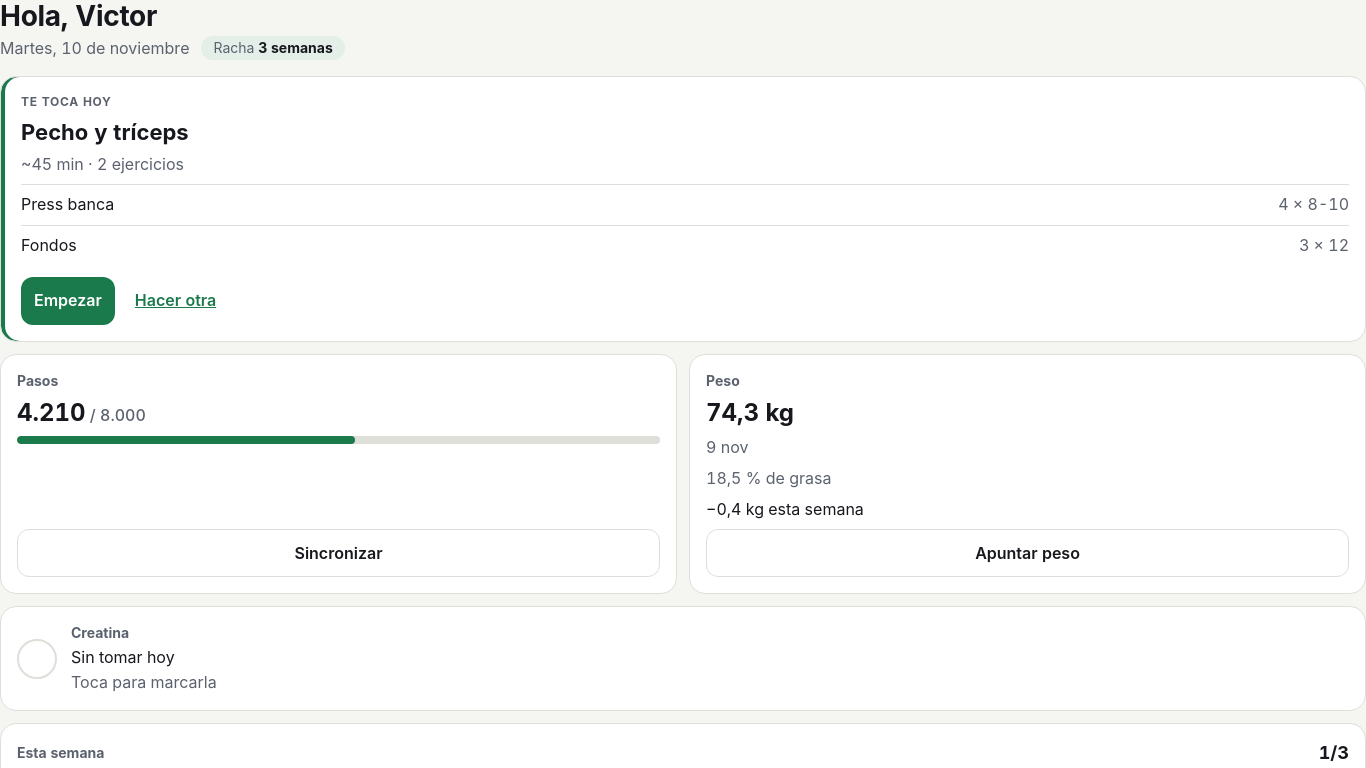
Test: Hoy: hoja Apuntar peso › guarda el peso con coma y la grasa, cierra la hoja y recarga Hoy
Expected: the heading "Hola, Victor" is shown, x1=0 y1=0 x2=157 y2=33
Click the button "Apuntar peso". click: (1028,554)
box: x1=706 y1=530 x2=1349 y2=578
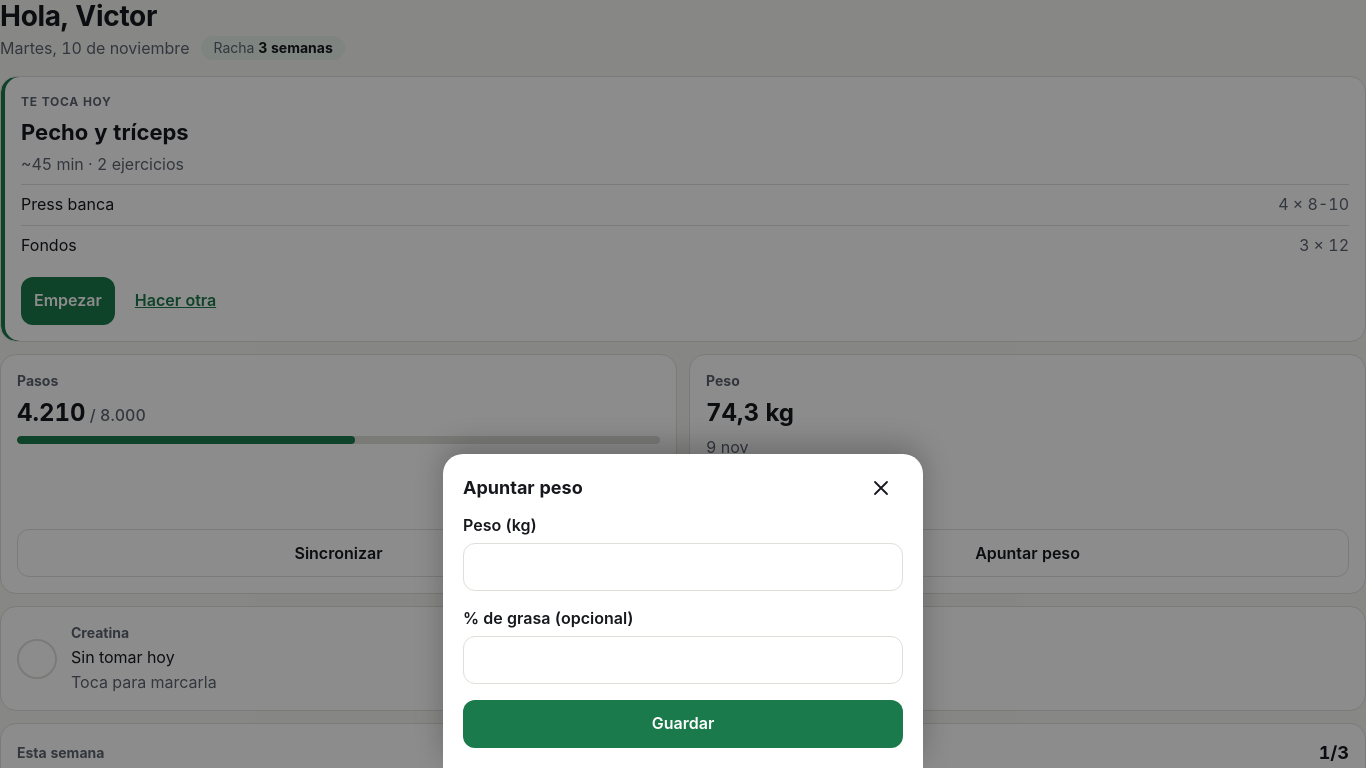
Type "57,5" into the field labelled "Peso (kg)". click: (683,567)
box: x1=463 y1=543 x2=903 y2=591
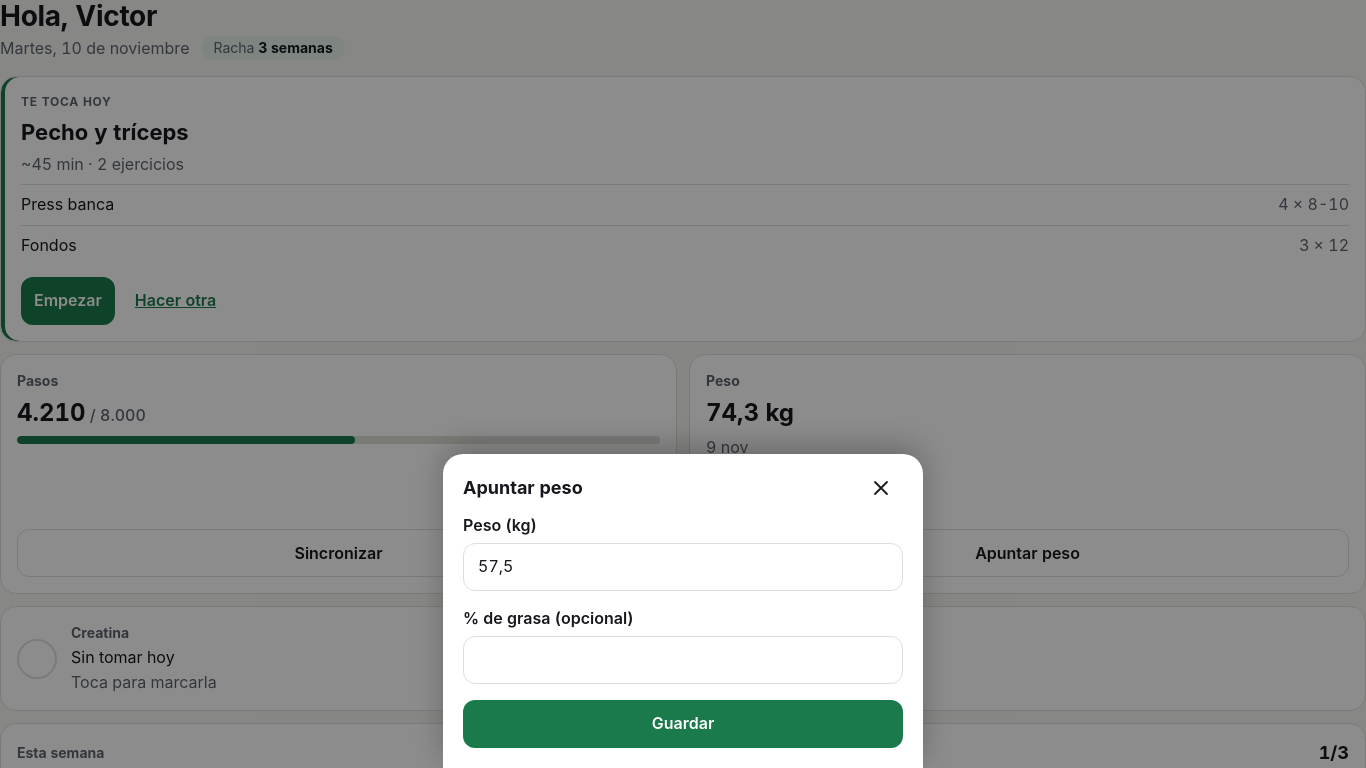
Type "18,2" into the field labelled "% de grasa (opcional)". click: (683,660)
box: x1=463 y1=636 x2=903 y2=684
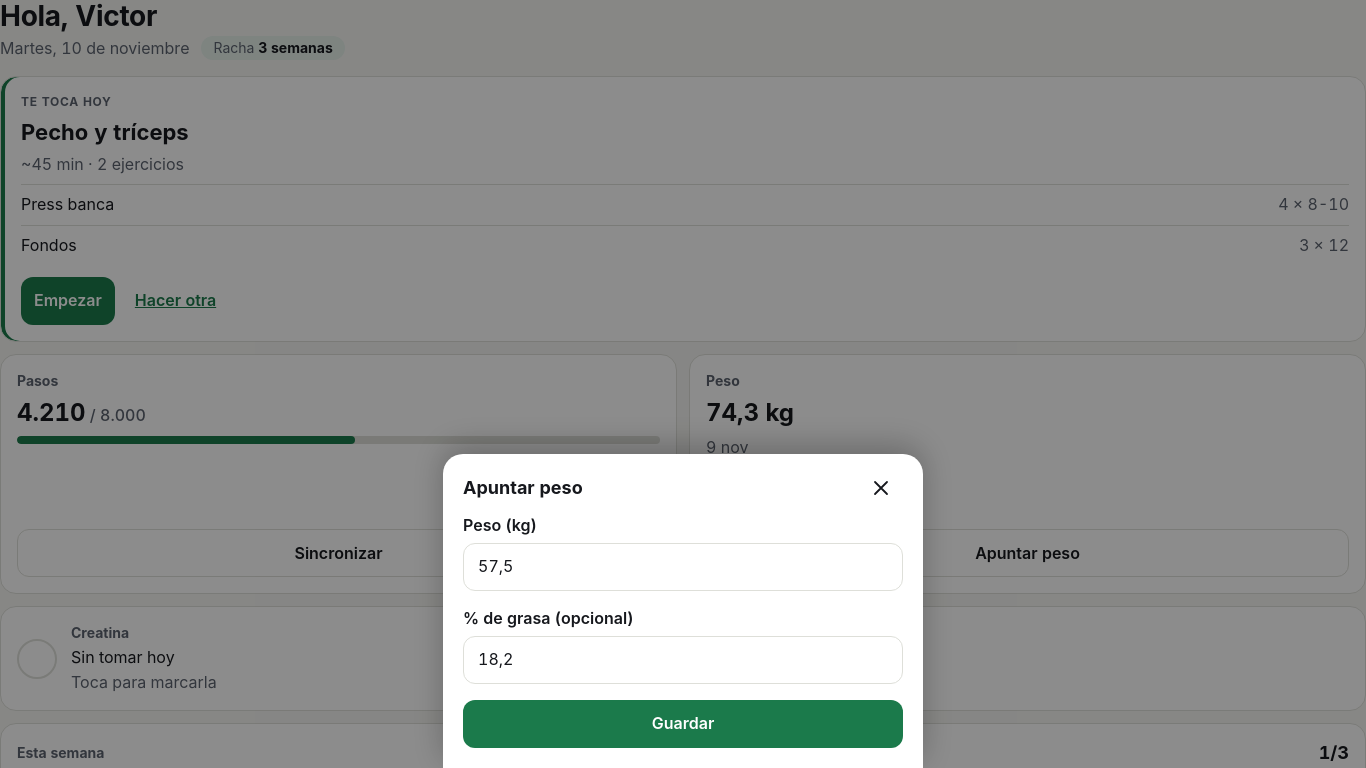
Click the button "Guardar". click: (683,724)
box: x1=463 y1=700 x2=903 y2=748
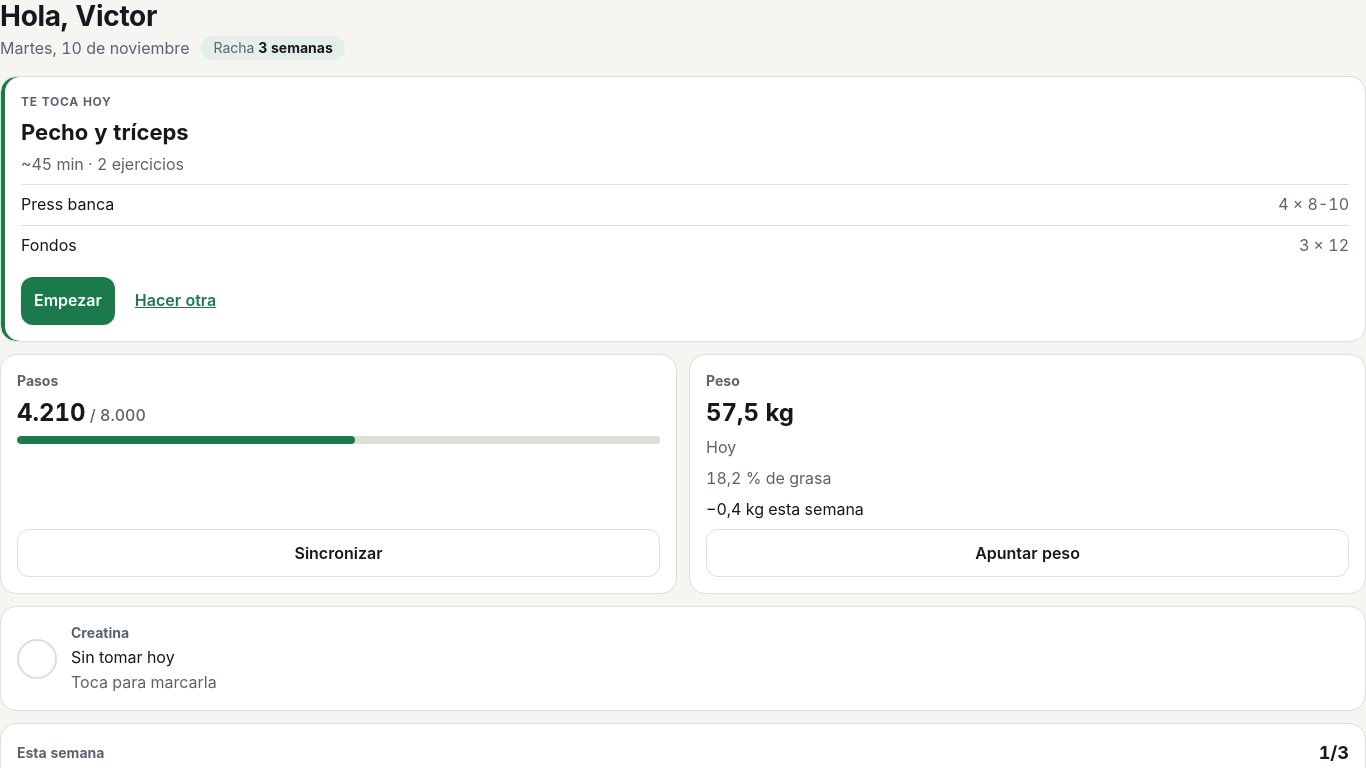
Expected: the dialog is gone
Expected: the text "57,5 kg" is shown, x1=706 y1=398 x2=794 y2=427
